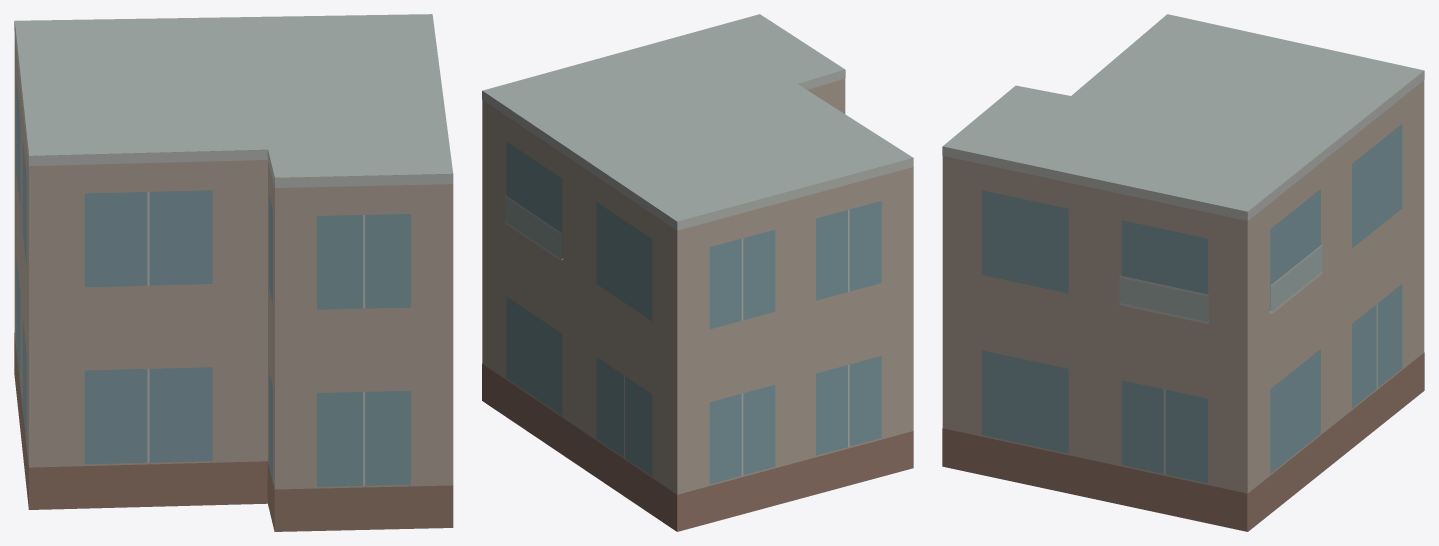
Rendered from survey-upis-32503478.glb.
3 views of the same model, side by side, from view 1: azimuth 30°, elevation 25°; view 2: azimuth 150°, elevation 25°; view 3: azimuth 270°, elevation 25° (orthographic). The views are drawn at different scales.
Parts seen in each view (by area): view 1: survey-upis-32503478.tmp; view 2: survey-upis-32503478.tmp; view 3: survey-upis-32503478.tmp.
Boxes of the visible parts, box(x1,y1,x2,y2) form: survey-upis-32503478.tmp: box(14, 14, 453, 531); survey-upis-32503478.tmp: box(482, 14, 913, 531); survey-upis-32503478.tmp: box(942, 14, 1424, 531).
Bounding box in the file's own units: 11.13 × 8.4 × 11.47.
